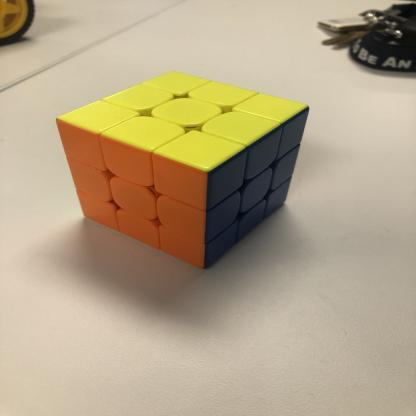SolvedCube: (39, 47, 312, 288)
